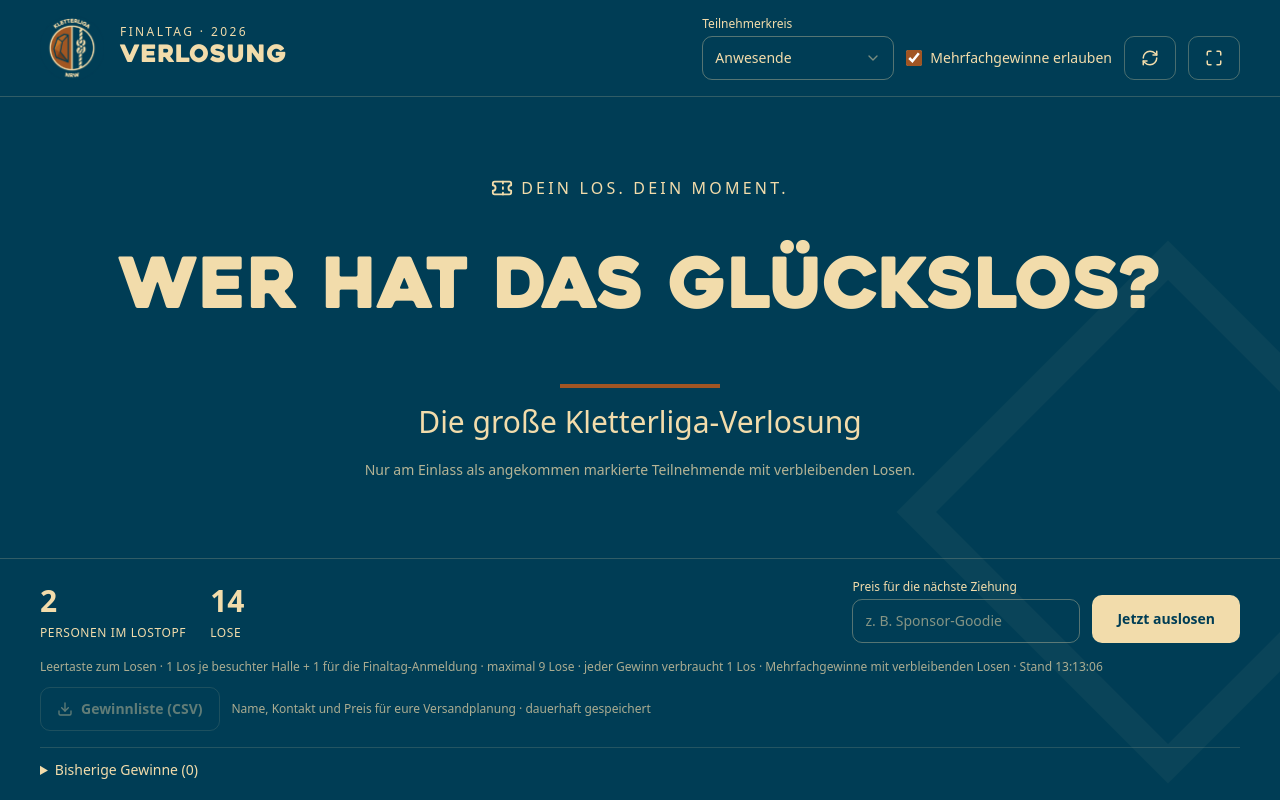
it: TV raffle › respects reduced motion and reveals without the slot animation
The width and height of the screenshot is (1280, 800).
Click the button "Jetzt auslosen" at coordinates (1166, 619), box [1092, 595, 1240, 643]
Wait 1 ms
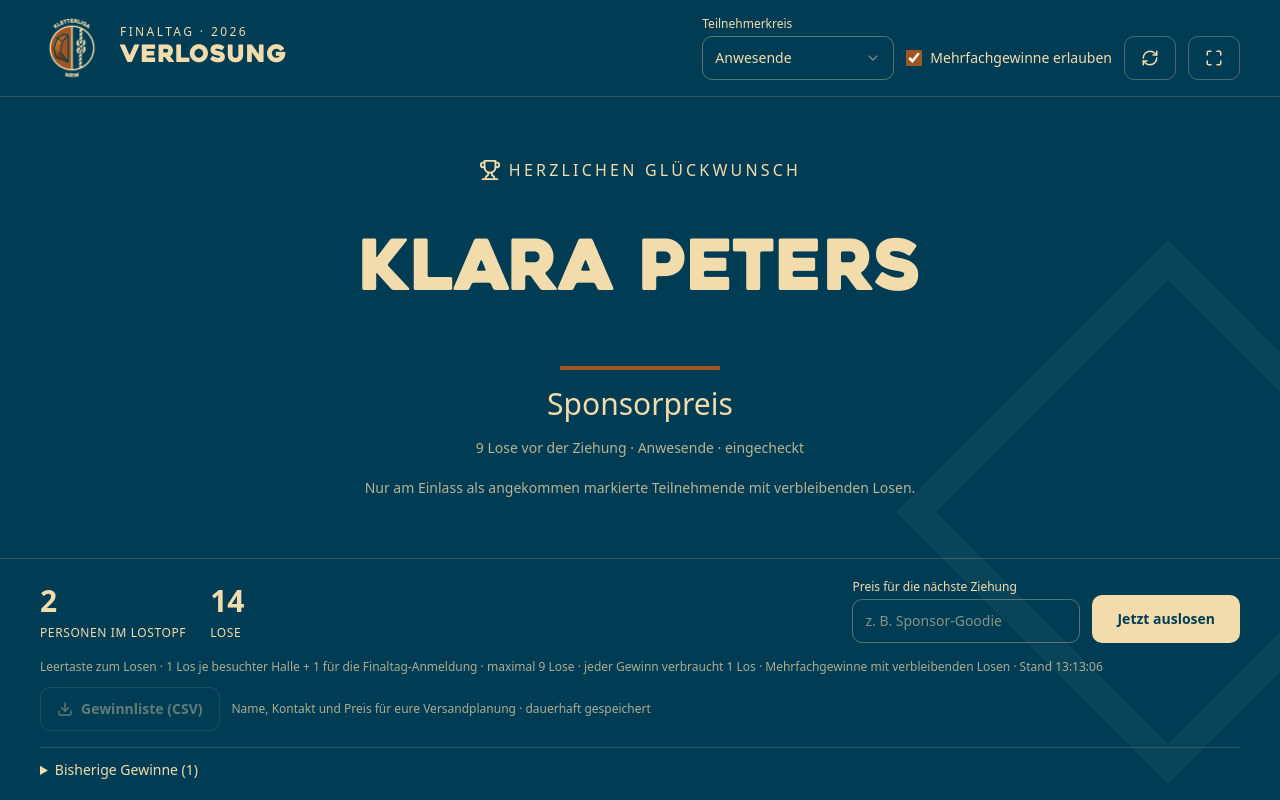
Result: the text "Herzlichen Glückwunsch" is shown at [479, 158, 801, 182]
